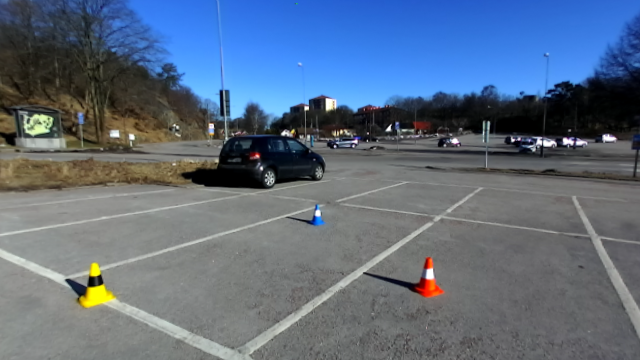blue: (309, 203, 326, 227)
orange: (411, 257, 445, 298)
yellow: (76, 262, 114, 307)
